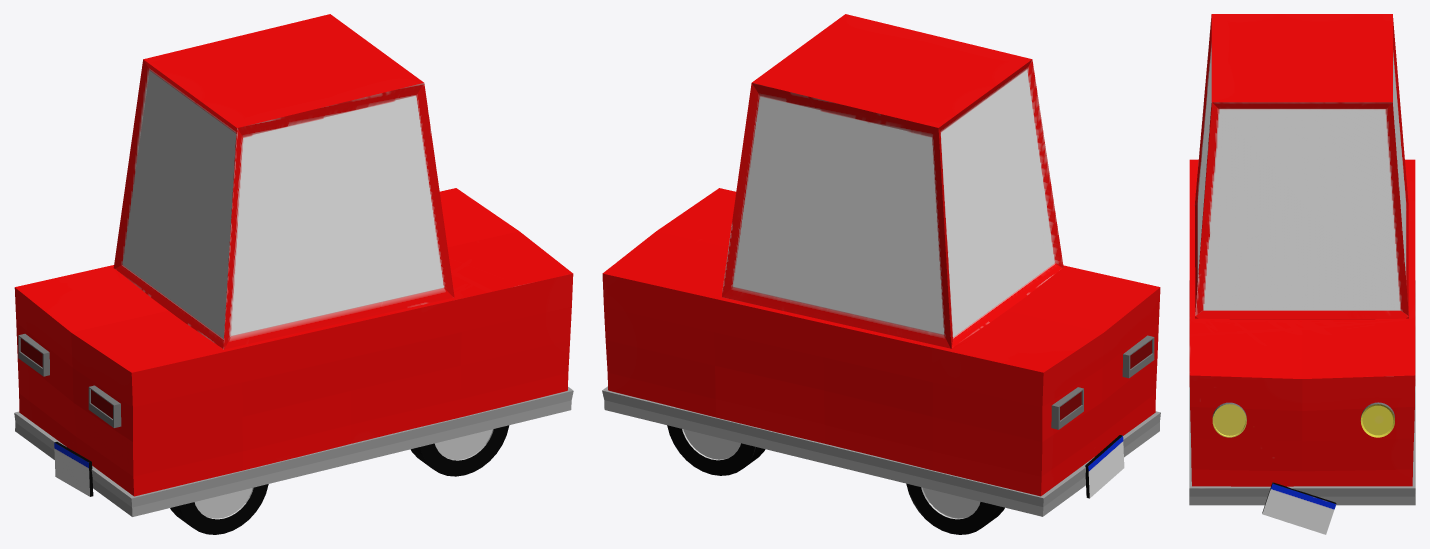
The model's file is Carro.fbx.
The picture shows the model from 3 angles, left to right: view 1: azimuth 30°, elevation 25°; view 2: azimuth 150°, elevation 25°; view 3: azimuth 270°, elevation 25°; orthographic projection. The views are drawn at different scales.
Parts seen in each view (by area): view 1: Carro; view 2: Carro; view 3: Carro.
Part boxes in pixels (x1,y1,x2,y2): Carro: (14, 14, 573, 534); Carro: (602, 14, 1160, 534); Carro: (1189, 14, 1415, 534).
Size of the model in its own units: 781 by 650 by 351.
